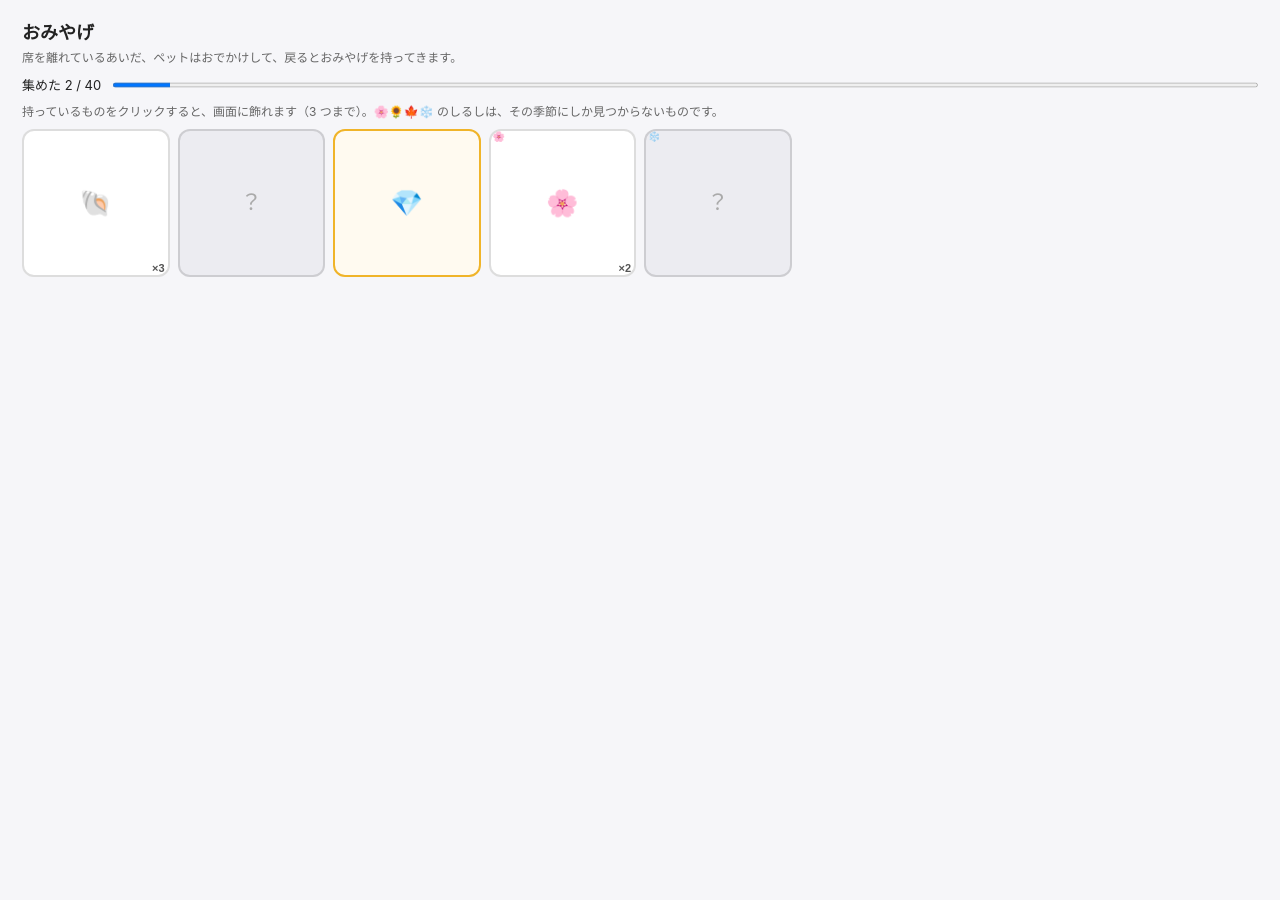
Test case: Souvenirs window › shows the reason when the shelf is full
Click the button named "かいがら（よくある）".
click(96, 203)  # box left=22, top=129, right=170, bottom=276
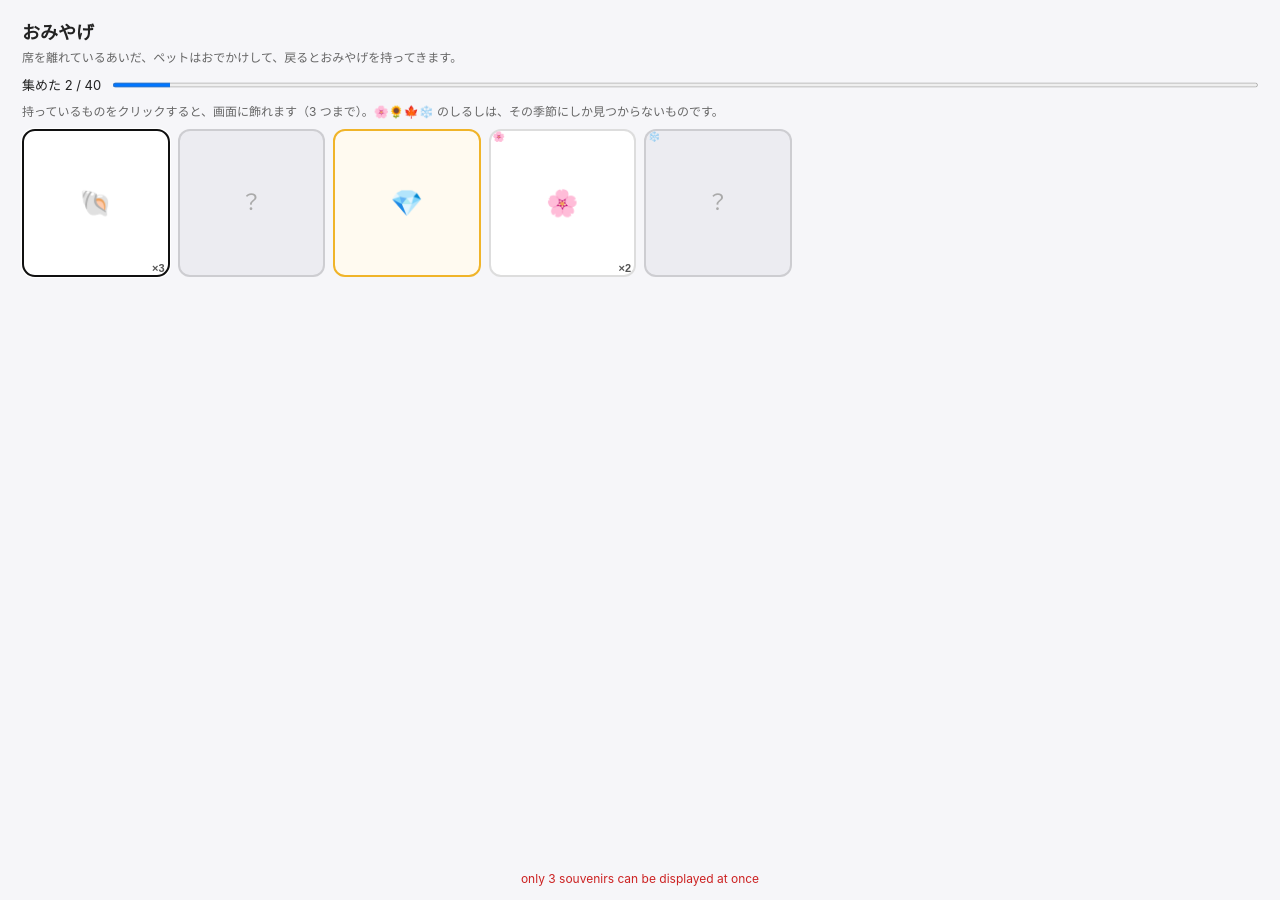
Result: the message shows "only 3" at left=521, top=871, right=759, bottom=886
